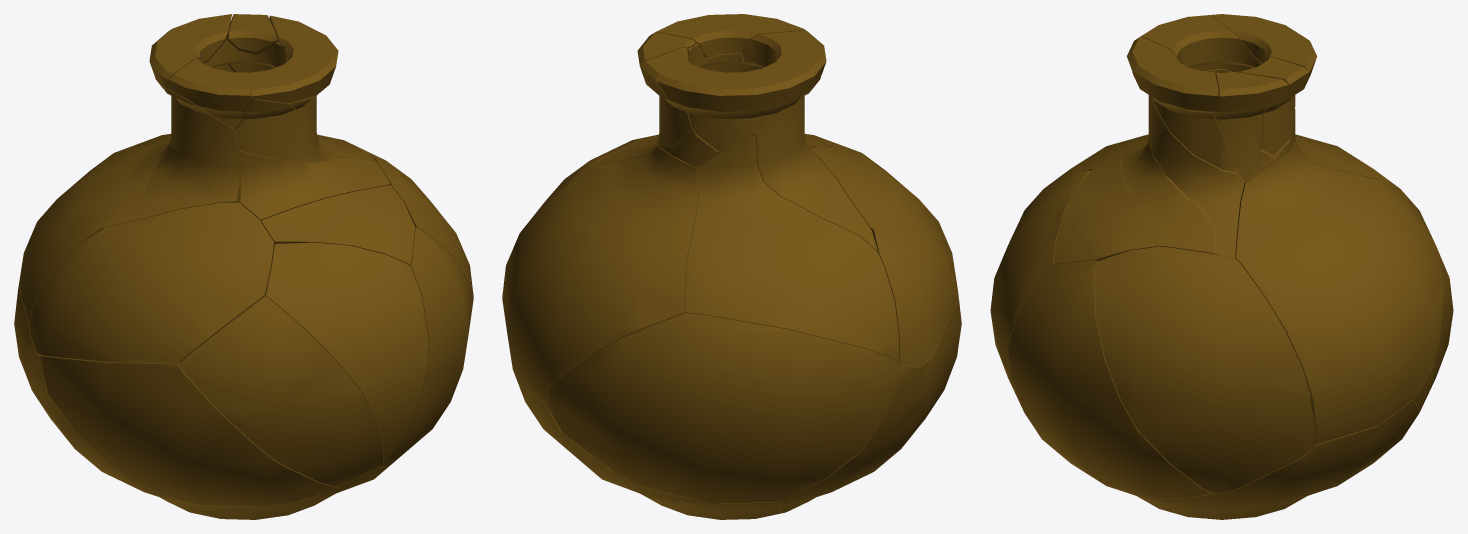
The model's file is vase_pieces.glb.
3 views of the same model, side by side, from view 1: azimuth 30°, elevation 25°; view 2: azimuth 150°, elevation 25°; view 3: azimuth 270°, elevation 25° (orthographic).
Parts seen in each view (by area): view 1: Vase_cell.010, Vase_cell.009, Vase_cell.017, Vase_cell.002, Vase_cell, Vase_cell.016, Vase_cell.014, Vase_cell.020, Vase_cell.011, Vase_cell.015, Vase_cell.012, Vase_cell.019 (+8 smaller); view 2: Vase_cell.001, Vase_cell.003, Vase_cell.014, Vase_cell.010, Vase_cell.006, Vase_cell, Vase_cell.008, Vase_cell.015, Vase_cell.018, Vase_cell.019, Vase_cell.007, Vase_cell.009 (+3 smaller); view 3: Vase_cell.003, Vase_cell.013, Vase_cell.016, Vase_cell.018, Vase_cell.020, Vase_cell.002, Vase_cell.011, Vase_cell.012, Vase_cell.021, Vase_cell.015, Vase_cell.019, Vase_cell.006 (+6 smaller).
Boxes of the visible parts, x1,y1,x2,y2 form: Vase_cell.010: (29, 202, 273, 363); Vase_cell.009: (38, 354, 337, 507); Vase_cell.017: (179, 296, 383, 486); Vase_cell.002: (264, 242, 427, 462); Vase_cell: (83, 89, 240, 241); Vase_cell.016: (380, 227, 472, 467); Vase_cell.014: (20, 138, 171, 324); Vase_cell.020: (261, 185, 414, 265); Vase_cell.011: (239, 151, 390, 220); Vase_cell.015: (167, 39, 287, 130); Vase_cell.012: (235, 99, 374, 162); Vase_cell.019: (251, 34, 338, 103); Vase_cell.001: (544, 313, 901, 503); Vase_cell.003: (502, 145, 698, 401); Vase_cell.014: (685, 135, 899, 360); Vase_cell.010: (811, 146, 958, 366); Vase_cell.006: (656, 66, 817, 151); Vase_cell: (750, 76, 877, 252); Vase_cell.008: (778, 364, 927, 512); Vase_cell.015: (658, 30, 826, 167); Vase_cell.018: (518, 384, 781, 519); Vase_cell.019: (656, 14, 808, 57); Vase_cell.007: (640, 47, 698, 145); Vase_cell.009: (918, 253, 961, 427); Vase_cell.003: (1235, 141, 1443, 444); Vase_cell.013: (1095, 246, 1315, 493); Vase_cell.016: (1008, 260, 1211, 498); Vase_cell.018: (1188, 399, 1419, 519); Vase_cell.020: (1054, 159, 1159, 264); Vase_cell.002: (991, 170, 1090, 404); Vase_cell.011: (1121, 134, 1234, 258); Vase_cell.012: (1148, 95, 1244, 257); Vase_cell.021: (1212, 72, 1288, 182); Vase_cell.015: (1141, 15, 1295, 171); Vase_cell.019: (1126, 36, 1218, 112); Vase_cell.006: (1211, 14, 1317, 106).
Size of the model in its own units: 1 by 1.03 by 1.
